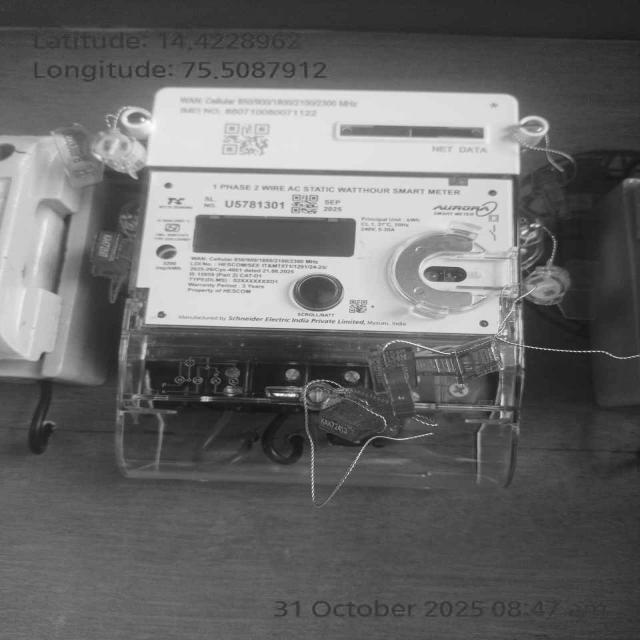meter: (133, 85, 526, 336)
